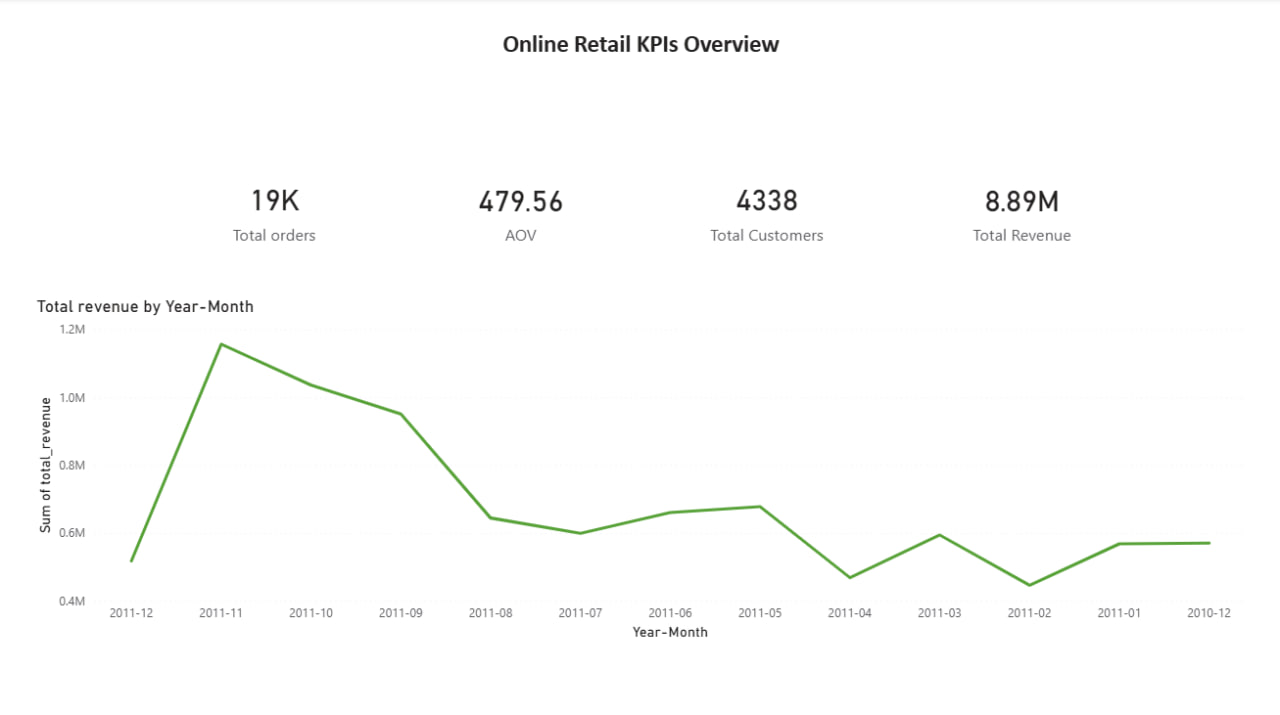

The dashboard page shown, as its layout file describes it:
{"tool":"powerbi","page":{"name":"Overview","canvas":[1280,720],"ordinal":0},"visuals":[{"type":"textbox","box":[0,25.7,1280.3,84.4],"z":1000},{"type":"card","fields":{"Values":["Sum(online_retail vw_kpis.total_revenue)"]},"box":[902.9,129,237.4,167.4],"z":2000},{"type":"card","fields":{"Values":["Sum(online_retail vw_kpis.total_customers)"]},"box":[629.8,127.6,273.1,168.8],"z":3000},{"type":"card","fields":{"Values":["Sum(online_retail vw_kpis.total_orders)"]},"box":[148.2,127.6,252.5,168.8],"z":4000},{"type":"card","fields":{"Values":["Sum(online_retail vw_kpis.average_order_value)"]},"box":[400.7,129,238.8,167.4],"z":5000},{"type":"lineChart","title":"Total revenue by Year-Month","fields":{"Y":["Sum(online_retail vw_monthly_sales.total_revenue)"],"Category":["online_retail vw_monthly_sales.Year-Month"]},"box":[31.6,297.8,1217.2,348.5],"z":6000}]}

Visuals, with their boxes in screenshot pixels (x1, y1, x2, y2), scaled from the page's 1280x720 canvas onto the 1280x715 screenshot:
textbox: select_region(0, 26, 1279, 109)
card - Sum(online_retail vw_kpis.total_revenue): select_region(903, 128, 1140, 294)
card - Sum(online_retail vw_kpis.total_customers): select_region(630, 127, 903, 294)
card - Sum(online_retail vw_kpis.total_orders): select_region(148, 127, 401, 294)
card - Sum(online_retail vw_kpis.average_order_value): select_region(401, 128, 640, 294)
"Total revenue by Year-Month" lineChart: select_region(32, 296, 1249, 642)
